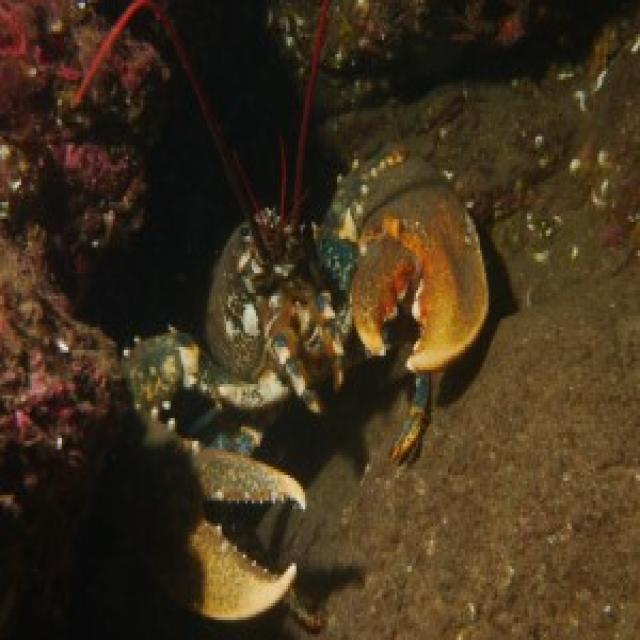lobsters: (77, 40, 593, 640)
